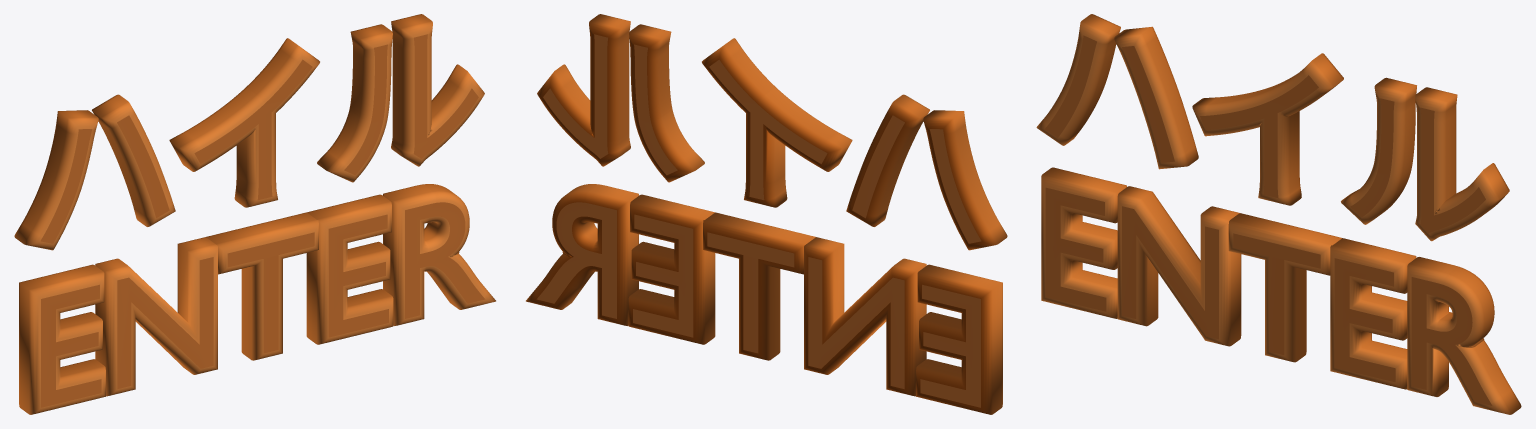
Rendered from hairu.obj.
The picture shows the model from 3 angles, left to right: view 1: azimuth 30°, elevation 25°; view 2: azimuth 150°, elevation 25°; view 3: azimuth 330°, elevation 25°; orthographic projection.
Visible parts, largest first — view 1: テキスト; view 2: テキスト; view 3: テキスト.
Part boxes in pixels (<box>): テキスト: <box>14,14,495,414</box>; テキスト: <box>526,14,1007,414</box>; テキスト: <box>1036,14,1521,414</box>.
Size of the model in its own units: 3.1 by 1.9 by 0.2.
Materials: 1 (1 with a texture image).
